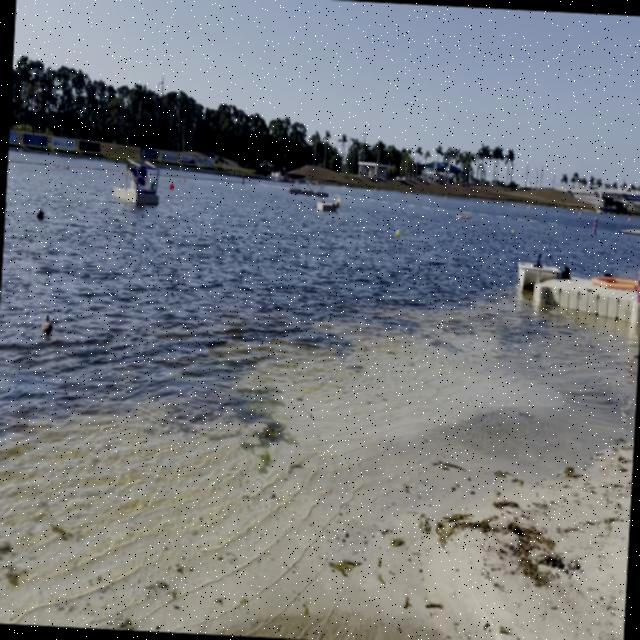buoy: (36, 208, 46, 224), (396, 228, 400, 238), (170, 182, 174, 190), (152, 180, 156, 188)
